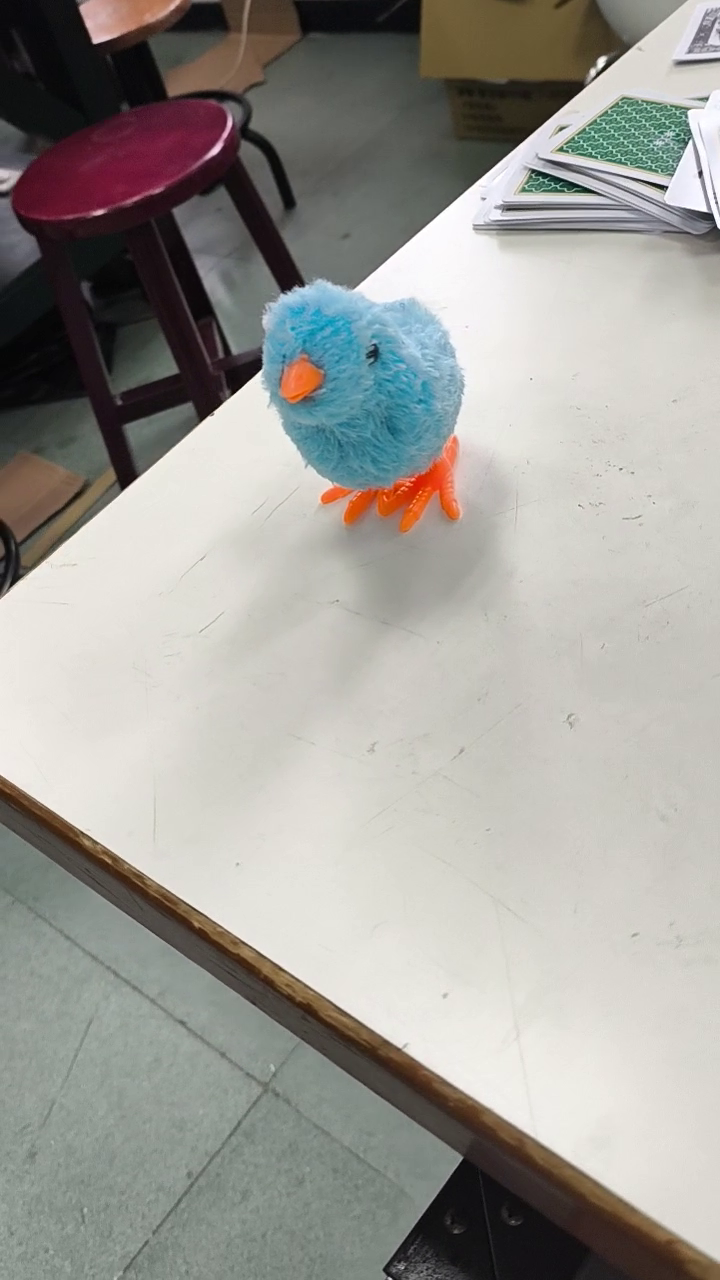blue chicken: (255, 274, 471, 538)
